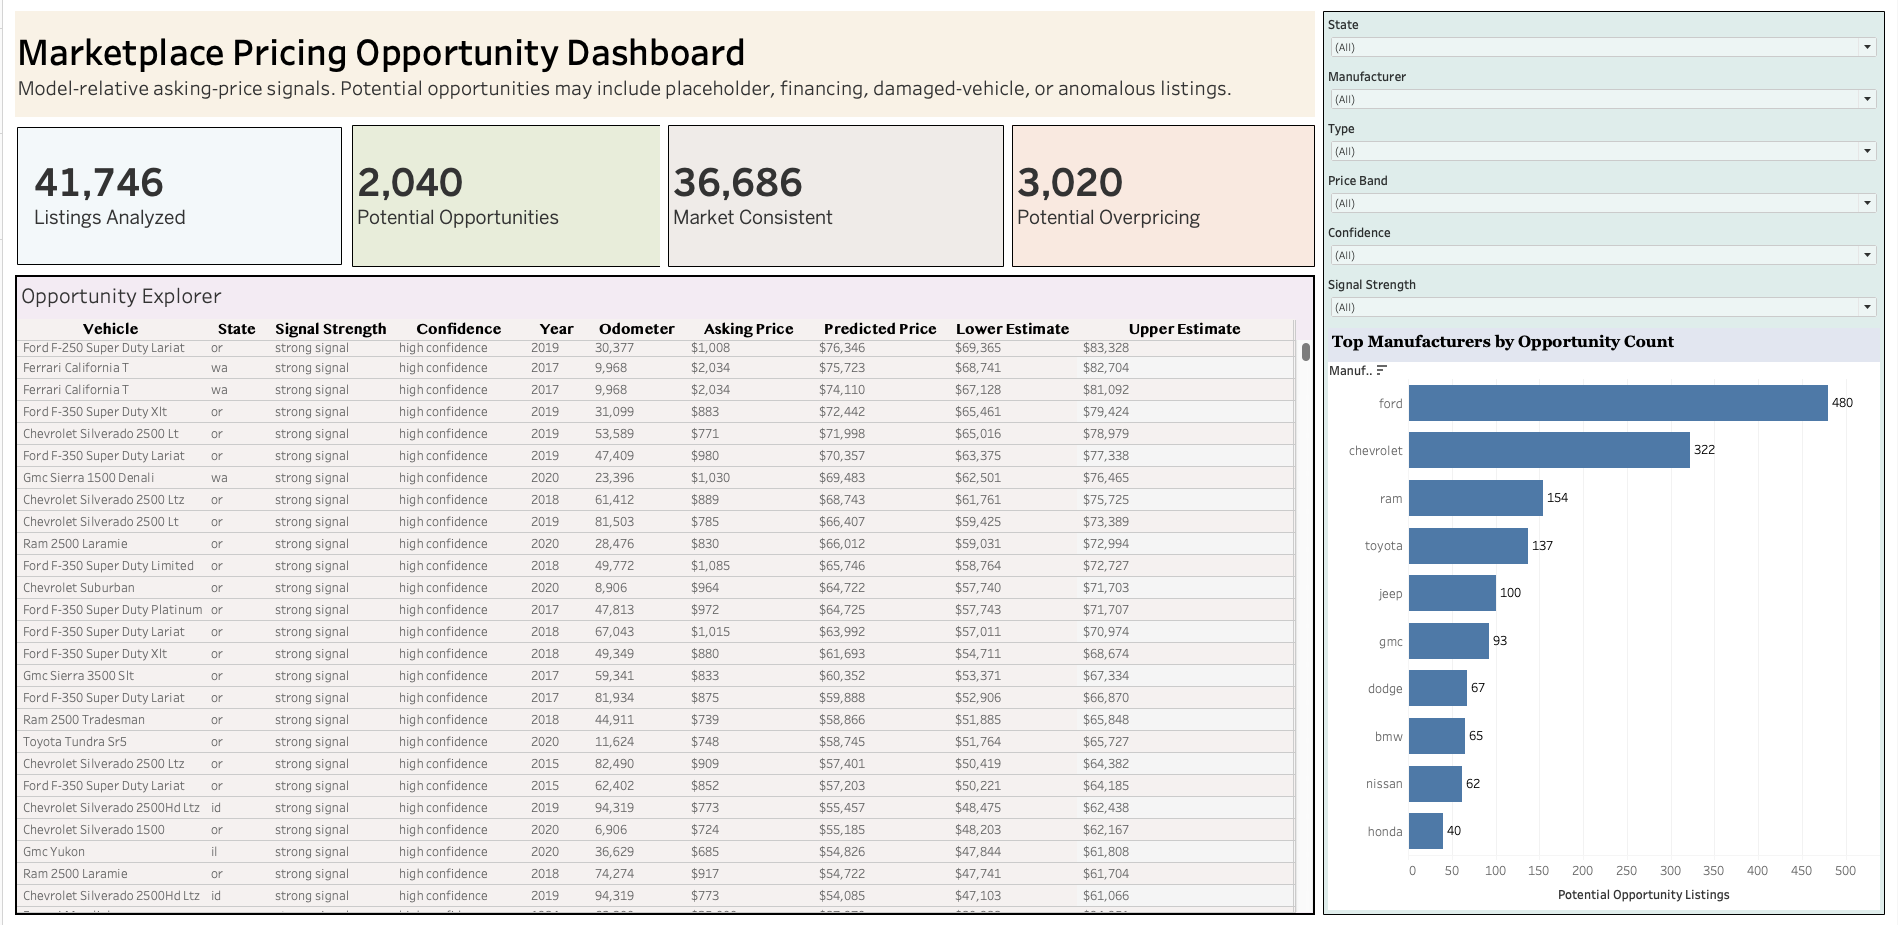

The dashboard page shown, as its layout file describes it:
{"tool":"tableau","page":{"name":"Marketplace Opportunity Dashboard","canvas":[1000,1000],"units":"permille","ordinal":0},"visuals":[{"type":"title","box":[5.8,8.1,688.3,115.4]},{"type":"filter","title":"Opportunity Explorer","param":"[federated.1ycr0xo1sur9mr18nq66q1uqlsc8].[none:state:nk]","box":[697.7,13.2,292.9,52.6]},{"type":"filter","title":"Opportunity Explorer","param":"[federated.1ycr0xo1sur9mr18nq66q1uqlsc8].[none:manufacturer:nk]","box":[697.7,65.8,292.9,52.6]},{"type":"filter","title":"Opportunity Explorer","param":"[federated.1ycr0xo1sur9mr18nq66q1uqlsc8].[none:type:nk]","box":[697.7,118.4,292.9,52.6]},{"type":"worksheet","title":"KPI - Total Listings","mark":"Automatic","box":[5.8,123.5,177.1,169.4]},{"type":"worksheet","title":"KPI - Potential Opportunities","mark":"Automatic","box":[182.9,123.5,166.7,169.4]},{"type":"worksheet","title":"KPI - Market Consistent","mark":"Automatic","box":[349.6,123.5,180.9,169.4]},{"type":"worksheet","title":"KPI - Potential Overpricing","mark":"Automatic","box":[530.5,123.5,163.6,169.4]},{"type":"filter","title":"Opportunity Explorer","param":"[federated.1ycr0xo1sur9mr18nq66q1uqlsc8].[none:price_band:nk]","box":[697.7,171.1,292.9,52.6]},{"type":"filter","title":"Opportunity Explorer","param":"[federated.1ycr0xo1sur9mr18nq66q1uqlsc8].[none:confidence_tier:nk]","box":[697.7,223.7,292.9,52.6]},{"type":"filter","title":"Opportunity Explorer","param":"[federated.1ycr0xo1sur9mr18nq66q1uqlsc8].[none:opportunity_strength:nk]","box":[697.7,276.3,292.9,52.6]},{"type":"worksheet","title":"Opportunity Explorer","mark":"Text","rows":["opportunity_rank","manufacturer_model_display","state","opportunity_strength","confidence_tier","year","odometer","asking_price_display","predicted_price_display","lower_90","upper_90"],"box":[5.8,292.9,688.3,699.1]},{"type":"worksheet","title":"Top Manufacturers","mark":"Bar","rows":["manufacturer"],"cols":["id"],"box":[697.7,328.9,292.9,657.9]}]}

Visuals, with their boxes on the dashboard's canvas, which has no fixed pixel size, in thousandths of its width and height (x1, y1, x2, y2). These are canvas units, not pixel positions in the 1898x925 screenshot, which may show the page scaled, cropped or inside an application window:
title: (x1=6, y1=8, x2=694, y2=124)
"Opportunity Explorer" filter: (x1=698, y1=13, x2=991, y2=66)
"Opportunity Explorer" filter: (x1=698, y1=66, x2=991, y2=118)
"Opportunity Explorer" filter: (x1=698, y1=118, x2=991, y2=171)
"KPI - Total Listings" worksheet: (x1=6, y1=124, x2=183, y2=293)
"KPI - Potential Opportunities" worksheet: (x1=183, y1=124, x2=350, y2=293)
"KPI - Market Consistent" worksheet: (x1=350, y1=124, x2=530, y2=293)
"KPI - Potential Overpricing" worksheet: (x1=530, y1=124, x2=694, y2=293)
"Opportunity Explorer" filter: (x1=698, y1=171, x2=991, y2=224)
"Opportunity Explorer" filter: (x1=698, y1=224, x2=991, y2=276)
"Opportunity Explorer" filter: (x1=698, y1=276, x2=991, y2=329)
"Opportunity Explorer" worksheet (Text marks): (x1=6, y1=293, x2=694, y2=992)
"Top Manufacturers" worksheet (Bar marks): (x1=698, y1=329, x2=991, y2=987)
